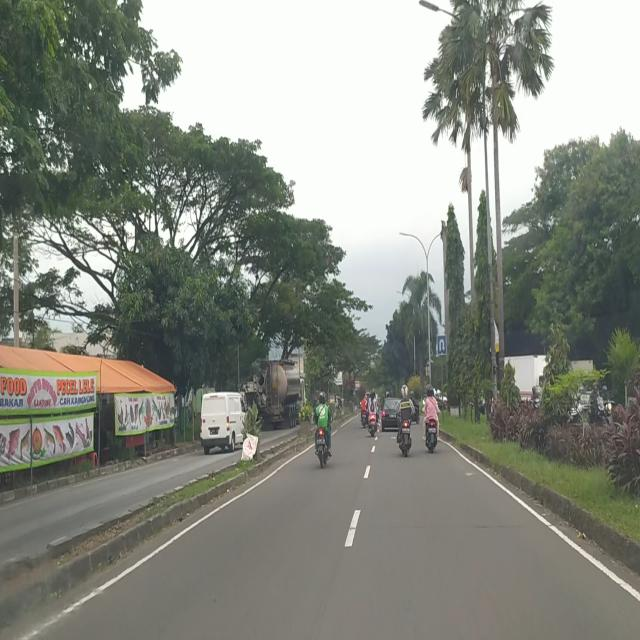Sewer Cover: (355, 523, 546, 531)
